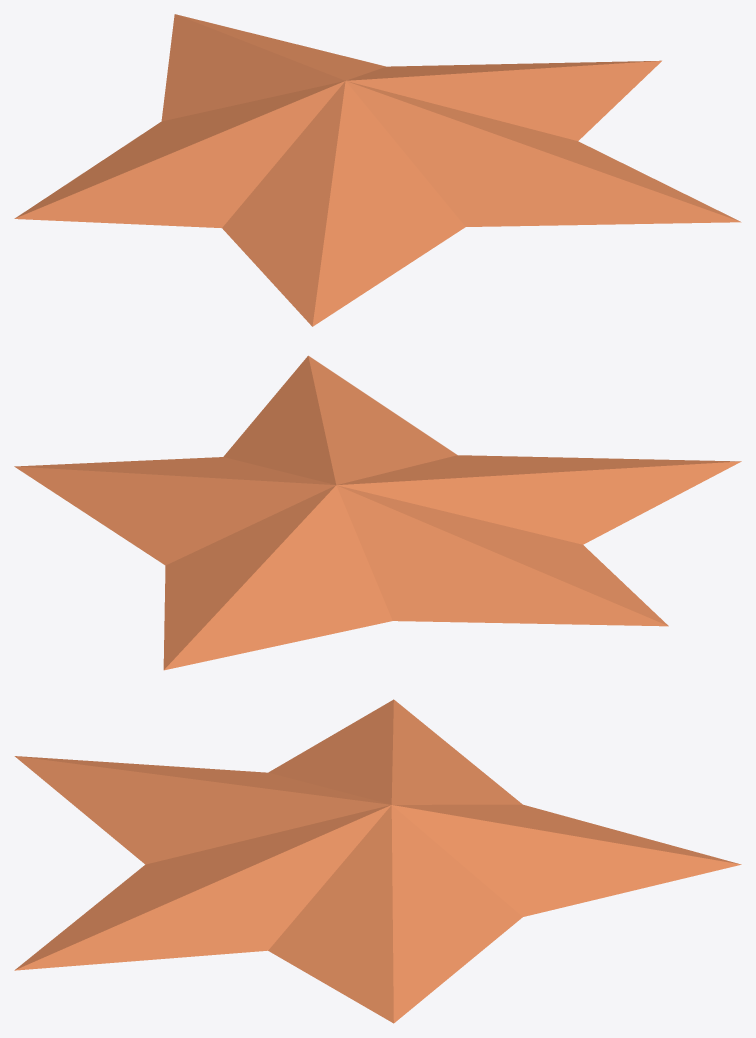
Rendered from estrelalaranja.fbx.
3 views of the same model, one above another, from view 1: azimuth 30°, elevation 25°; view 2: azimuth 150°, elevation 25°; view 3: azimuth 270°, elevation 25° (orthographic). The views are drawn at different scales.
Parts seen in each view (by area): view 1: Circle; view 2: Circle; view 3: Circle.
Boxes of the visible parts, x1,y1,x2,y2 form: Circle: (14,14,741,326); Circle: (14,355,741,670); Circle: (14,699,741,1023).
Size of the model in its own units: 181 by 15.51 by 171.
